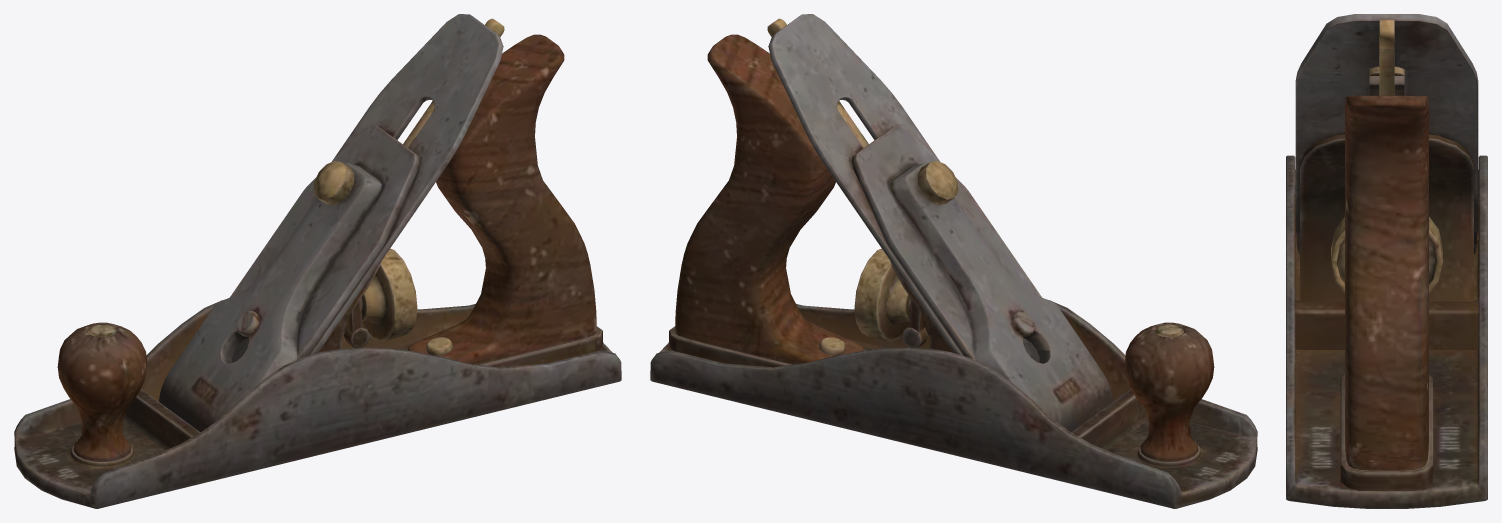
File: hand_plane_no4.454b1506.glb
The picture shows the model from 3 angles, left to right: view 1: azimuth 30°, elevation 25°; view 2: azimuth 150°, elevation 25°; view 3: azimuth 270°, elevation 25°; orthographic projection. The views are drawn at different scales.
Parts seen in each view (by area): view 1: hand_plane_no4; view 2: hand_plane_no4; view 3: hand_plane_no4.
Part boxes in pixels (x1,y1,x2,y2): hand_plane_no4: [14, 14, 621, 508]; hand_plane_no4: [650, 14, 1257, 508]; hand_plane_no4: [1286, 14, 1487, 508].
Bounding box in the file's own units: 0.95 × 0.5681 × 0.2422.
Materials: 1 (1 with a texture image).
